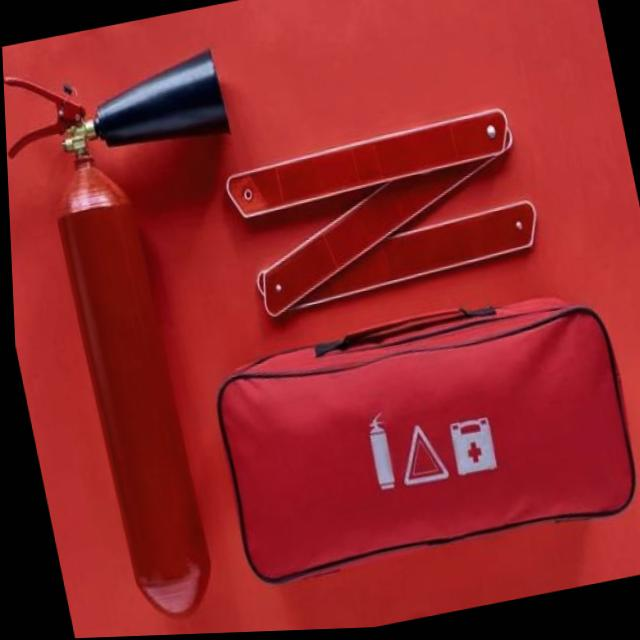FireExtinguisher: (1, 23, 324, 640)
